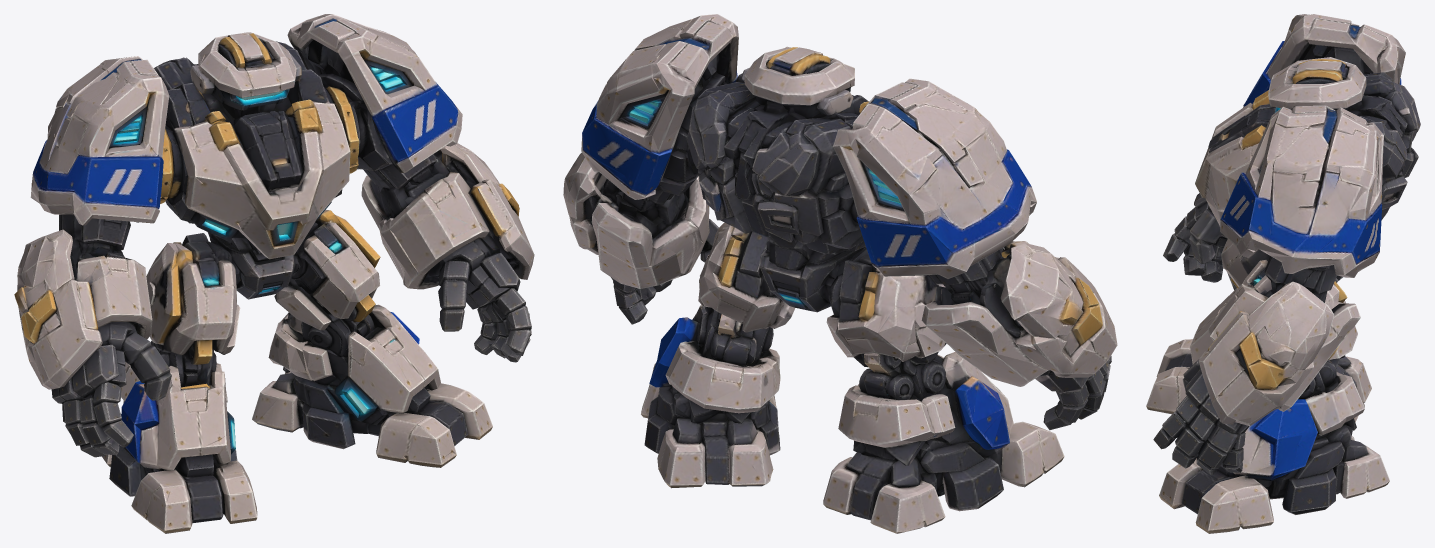
File: drone-blue-super.glb
3 views of the same model, side by side, from view 1: azimuth 30°, elevation 25°; view 2: azimuth 150°, elevation 25°; view 3: azimuth 270°, elevation 25° (orthographic). The views are drawn at different scales.
Bounding box in the file's own units: 1.9 × 1.47 × 0.9579.
Materials: 1 (1 with a texture image).
